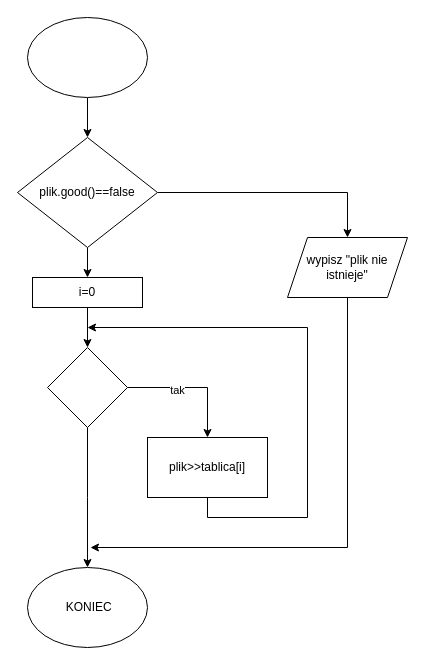
This 425x665 diagram has some shape labels left out. Here are the shapes that lost their labels. From the top down, the centre of each, then its label:
At point 87,57: "START".
At point 87,387: "i<n".
